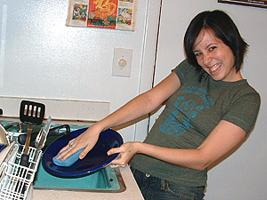person: (55, 7, 262, 200)
